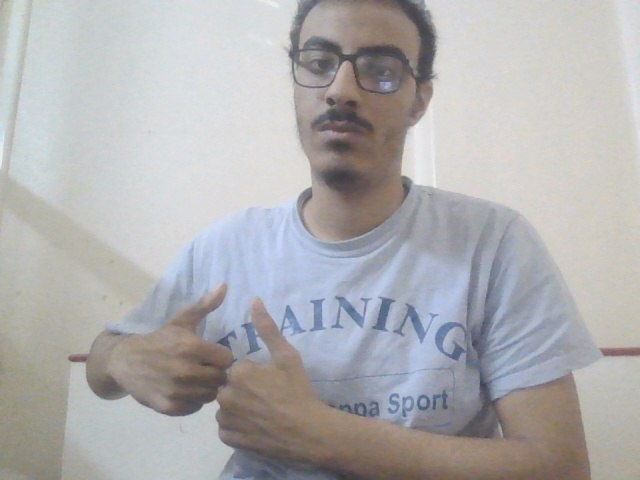Help: (121, 281, 349, 472)
